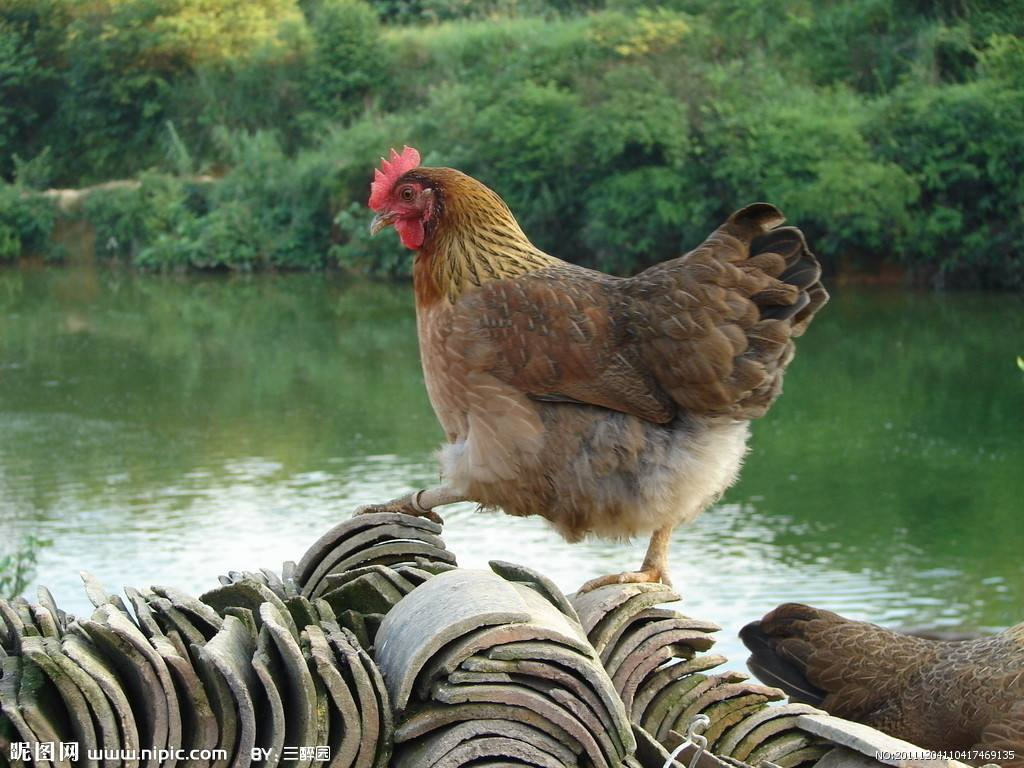chicken: (361, 130, 842, 598)
